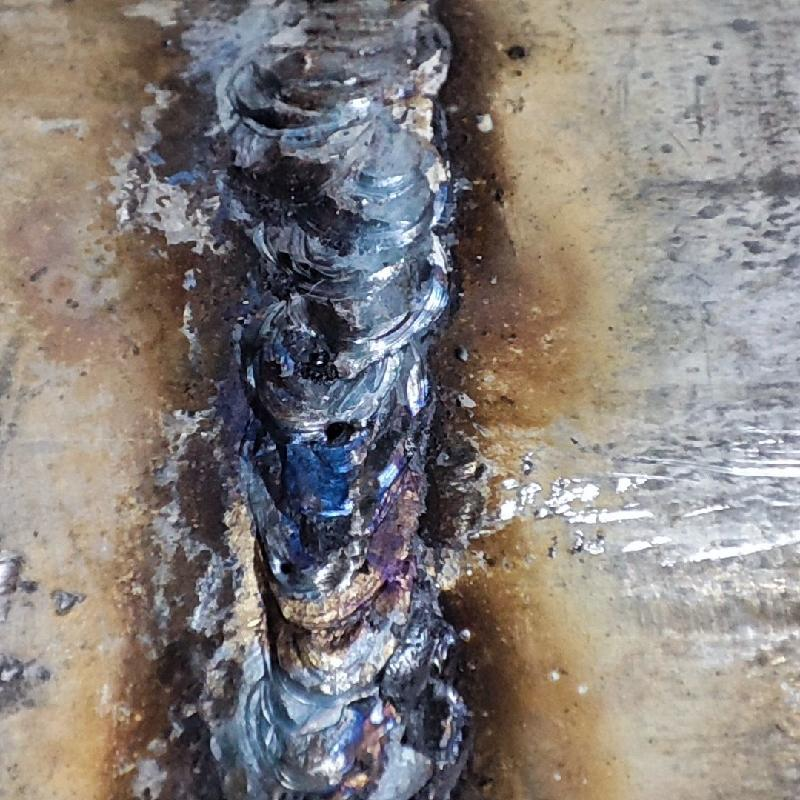Surface_pores: (312, 410, 372, 460), (268, 550, 313, 594)
